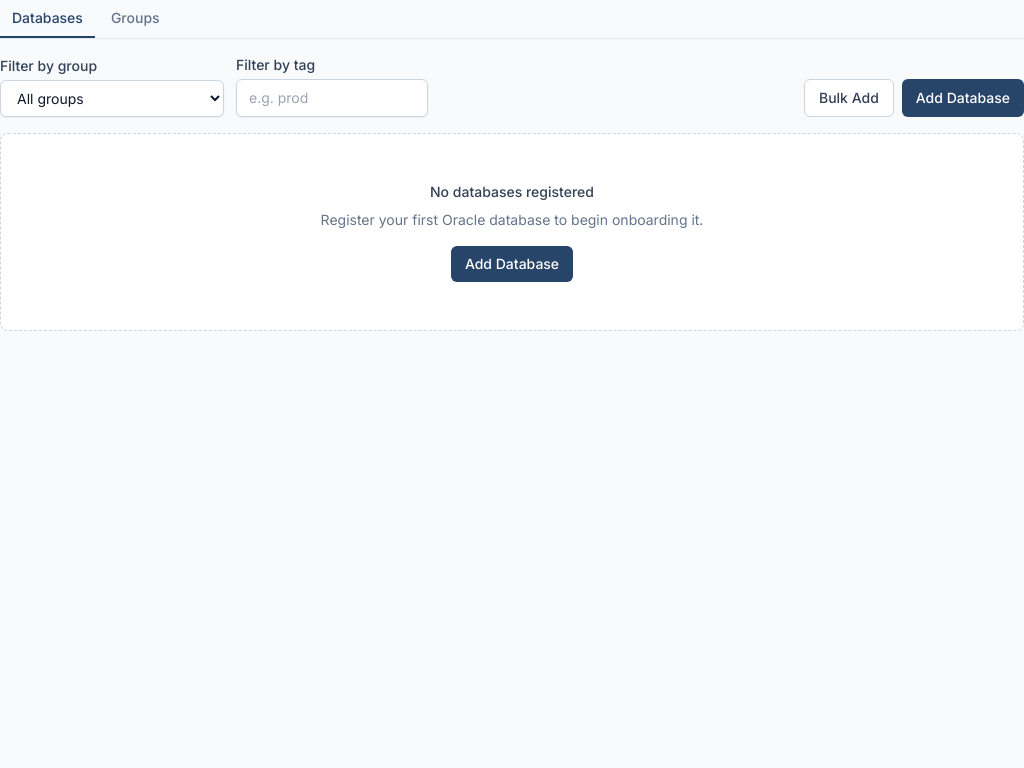
DatabasesPage › registers a new database
Expected: the text "No databases registered" is shown, left=430, top=182, right=594, bottom=202
Click the 1st button "Add Database" at (963, 98), box left=902, top=79, right=1023, bottom=117
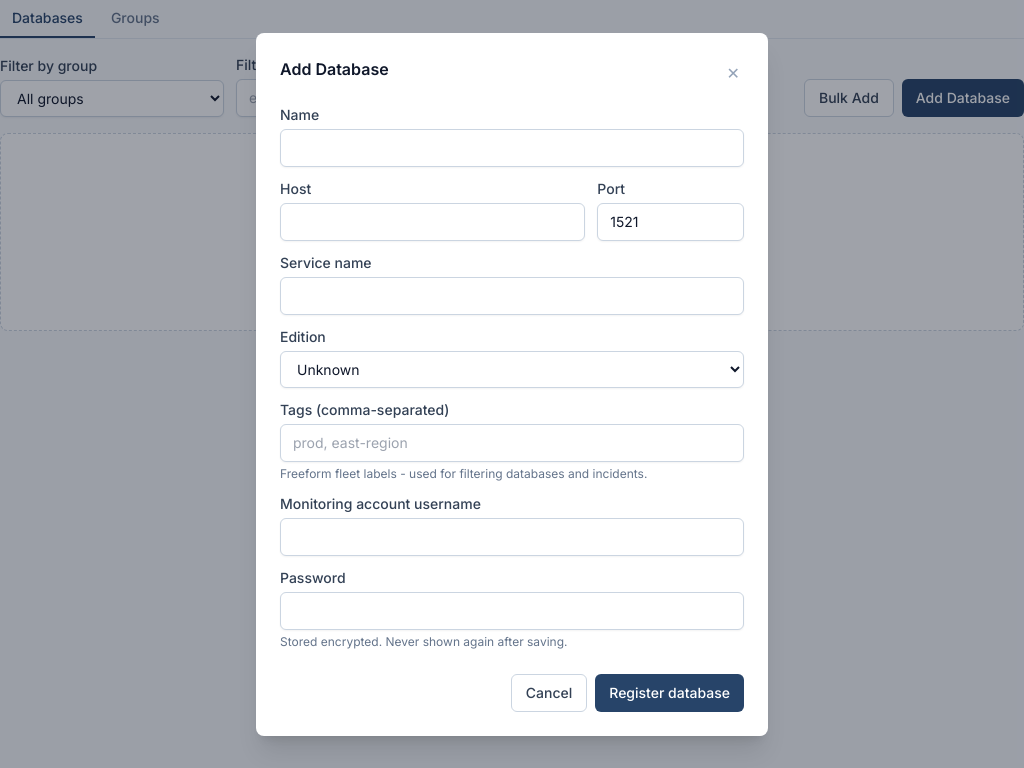
Type "PROD01" into the field labelled "Name" at (512, 148), box left=280, top=128, right=744, bottom=166
Type "db.internal" into the field labelled "Host" at (433, 222), box left=280, top=202, right=585, bottom=240
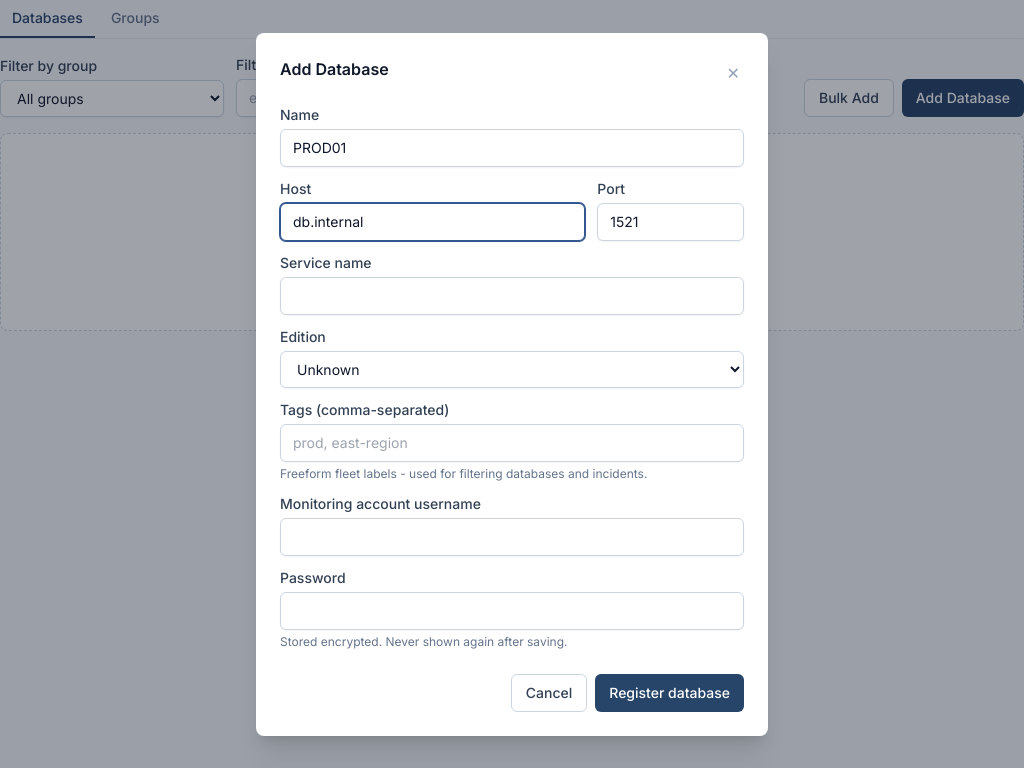
Type "ORCLPDB1" into the field labelled "Service name" at (512, 296), box left=280, top=276, right=744, bottom=314
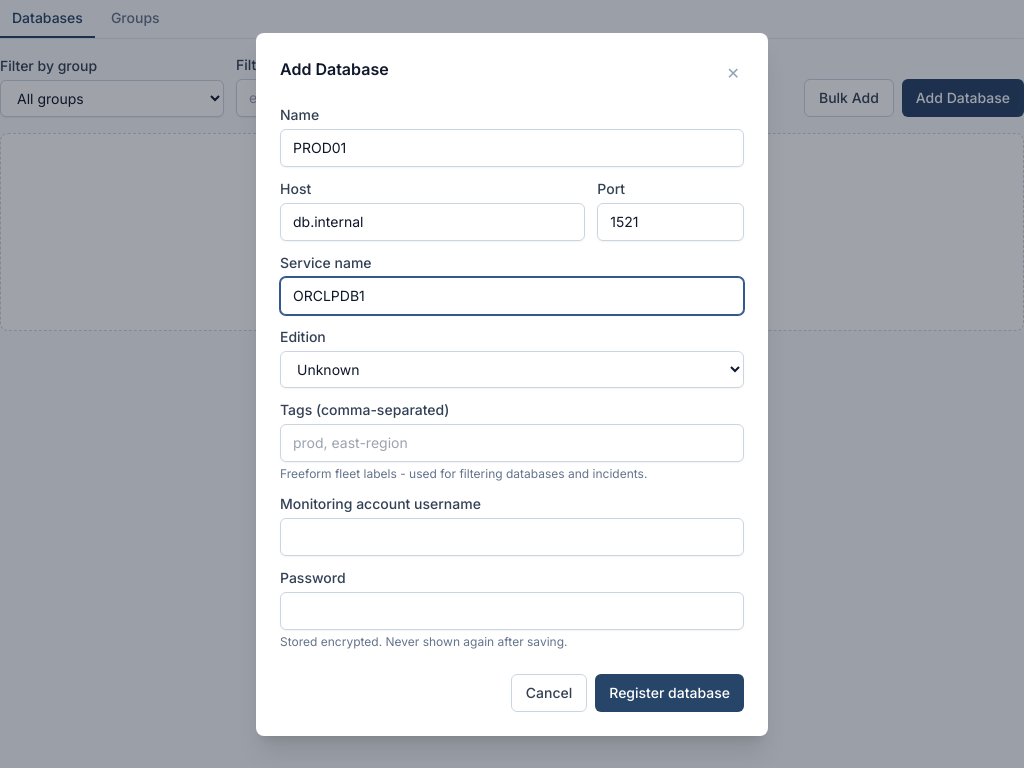
Type "monitor" into the field labelled "Monitoring account username" at (512, 536), box left=280, top=518, right=744, bottom=556
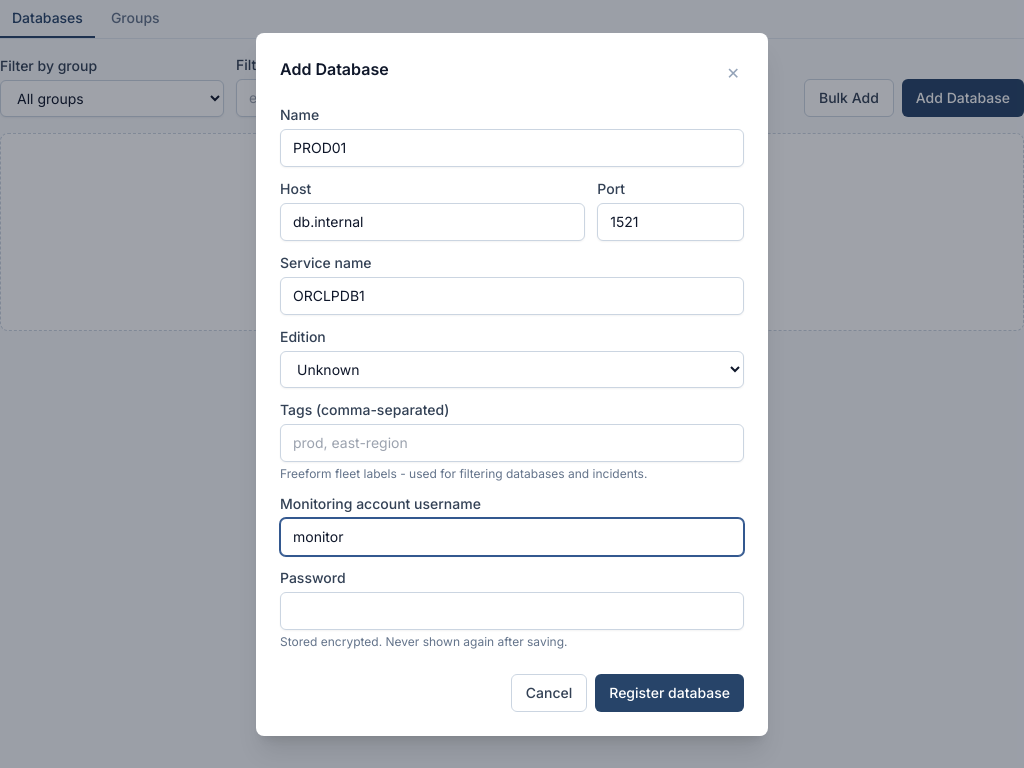
Type "SuperSecret123!" into the password field labelled "Password" at (512, 610), box left=280, top=592, right=744, bottom=630
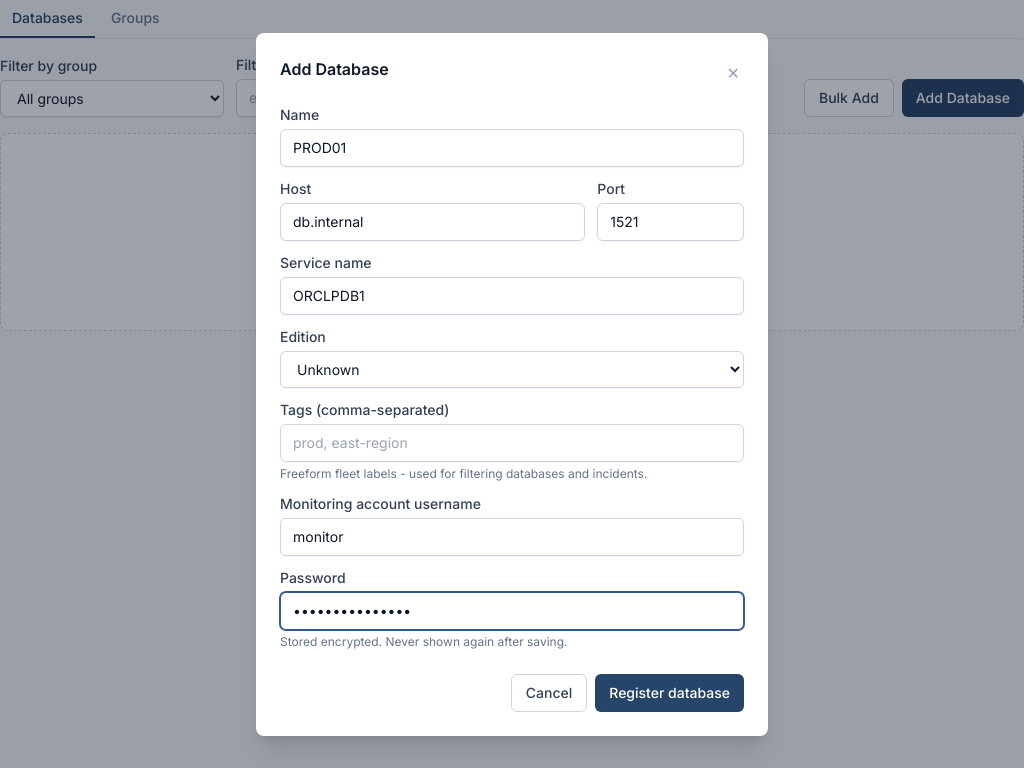
Click the button "Register database" at (670, 692), box left=595, top=674, right=744, bottom=712
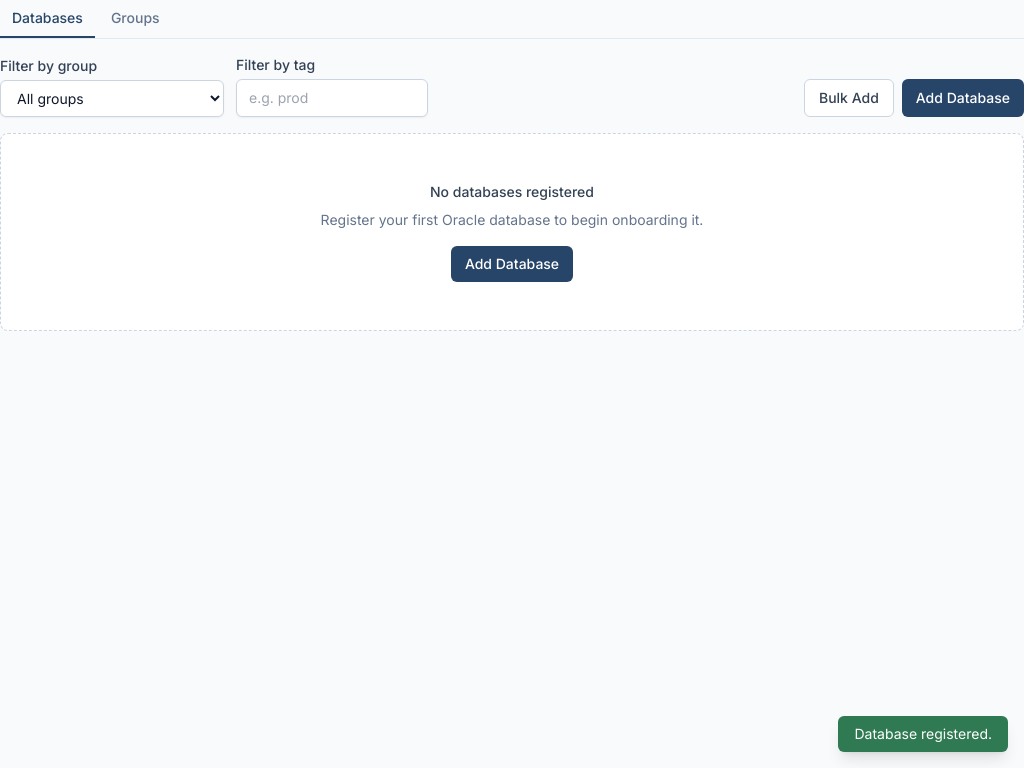
Expected: the text "Database registered." is shown, left=838, top=716, right=1008, bottom=752
Expected: the dialog is gone
